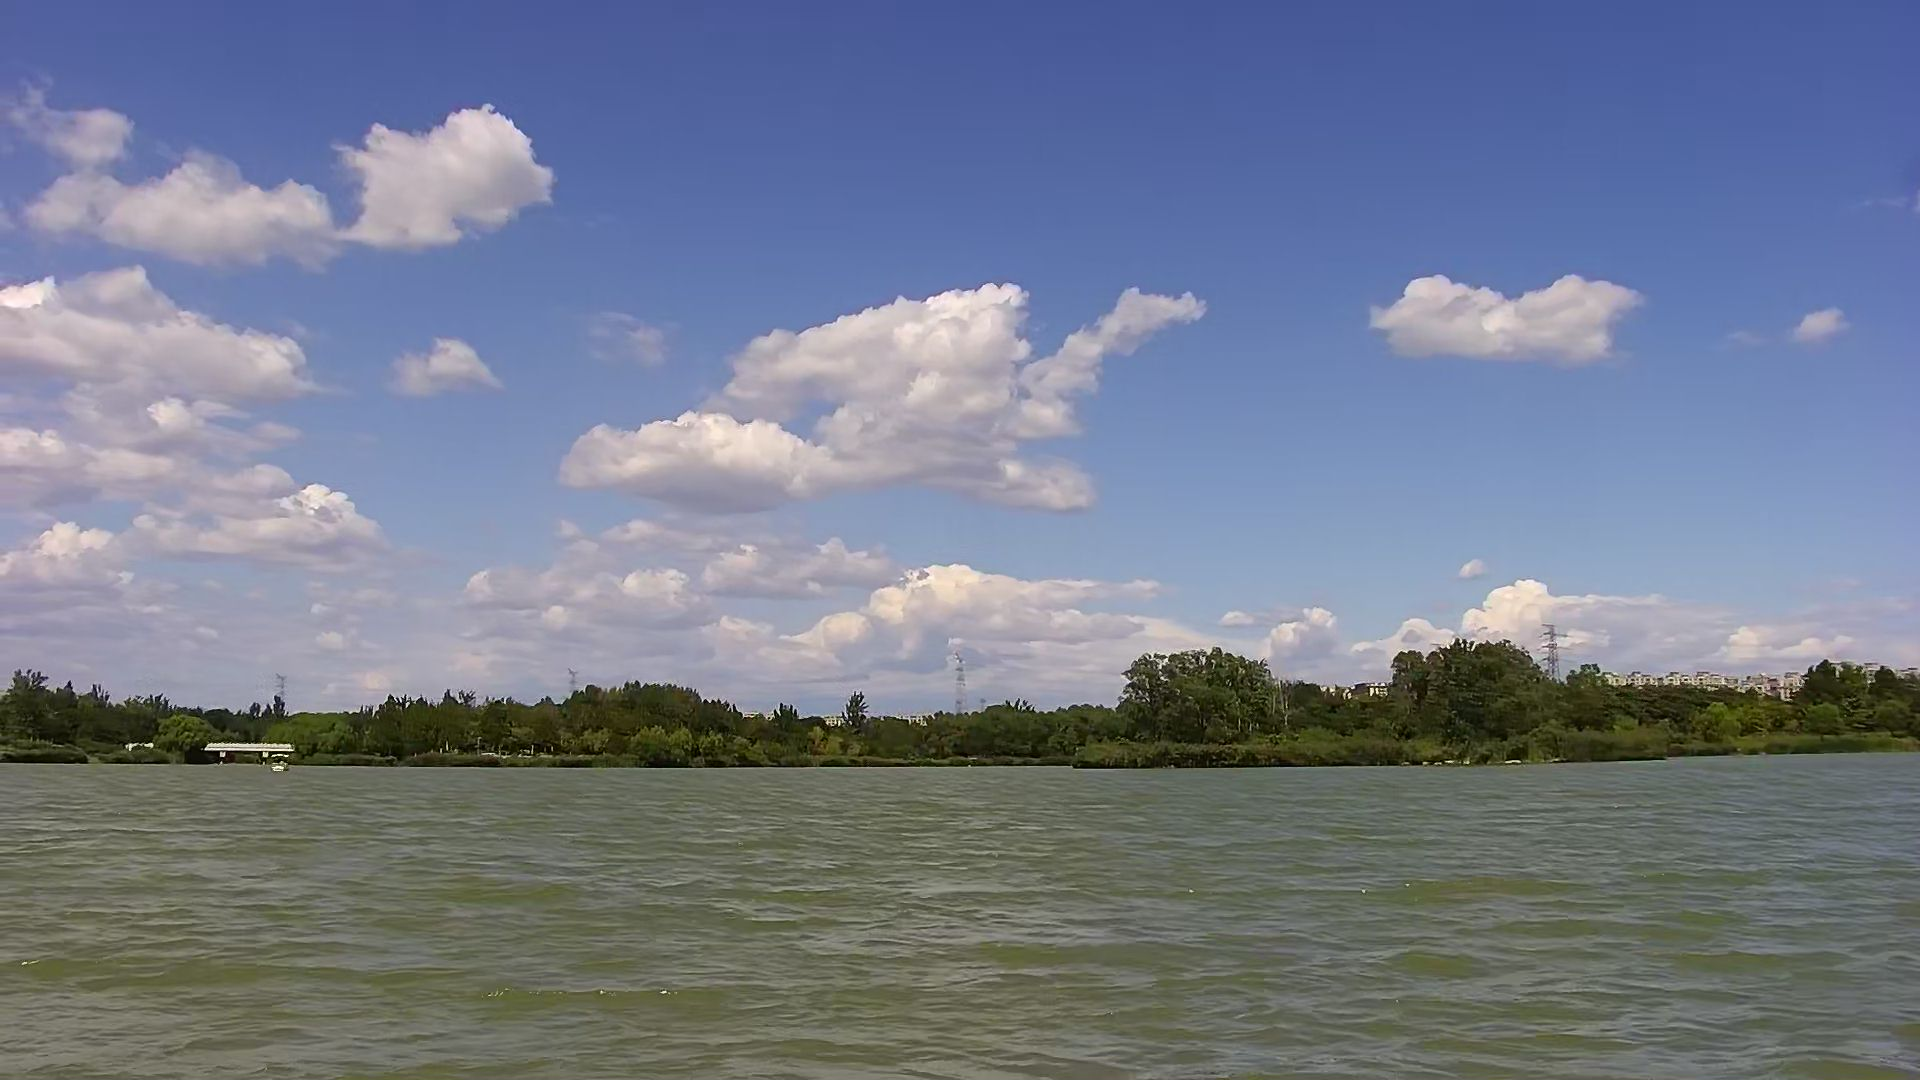boat: (262, 748, 297, 785)
bridge: (200, 732, 319, 766)
